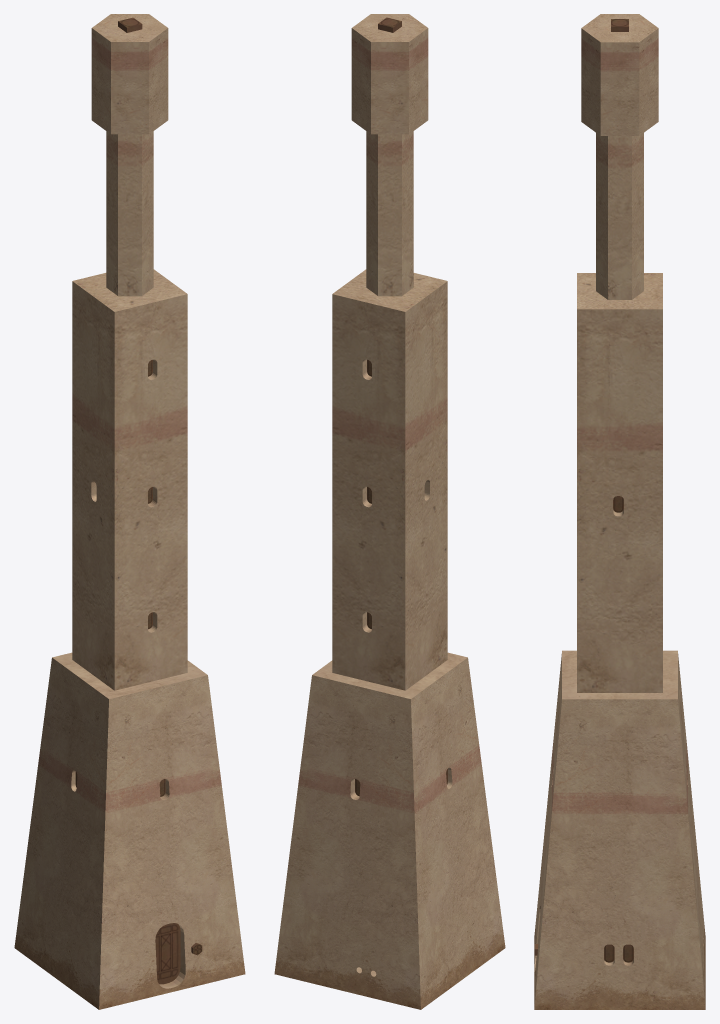
File: building_4.glb
3 renders of one model, left to right at view 1: azimuth 30°, elevation 25°; view 2: azimuth 150°, elevation 25°; view 3: azimuth 270°, elevation 25°, orthographic.
Parts seen in each view (by area): view 1: Object_7.001; view 2: Object_7.001; view 3: Object_7.001.
Part boxes in pixels (bbox=[...]): Object_7.001: bbox=[14, 14, 245, 1009]; Object_7.001: bbox=[274, 14, 505, 1009]; Object_7.001: bbox=[534, 14, 705, 1009].
Size of the model in its own units: 5.74 by 35.12 by 5.74.
Materials: 1 (1 with a texture image).
